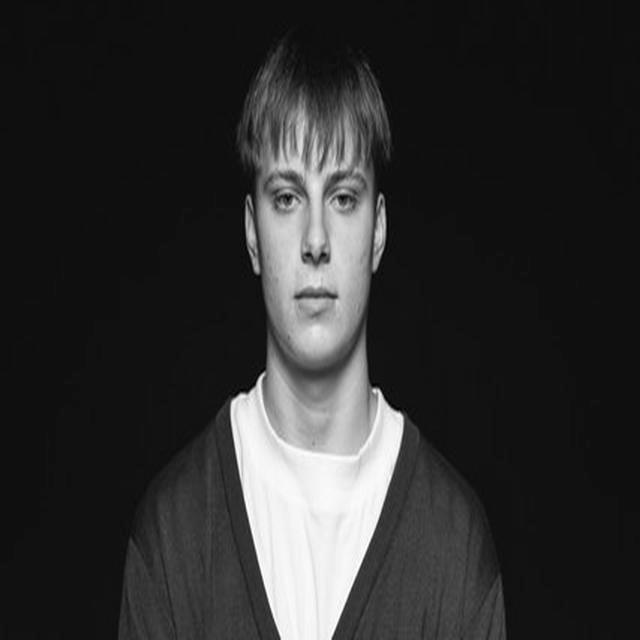Neutral: (255, 107, 375, 370)
